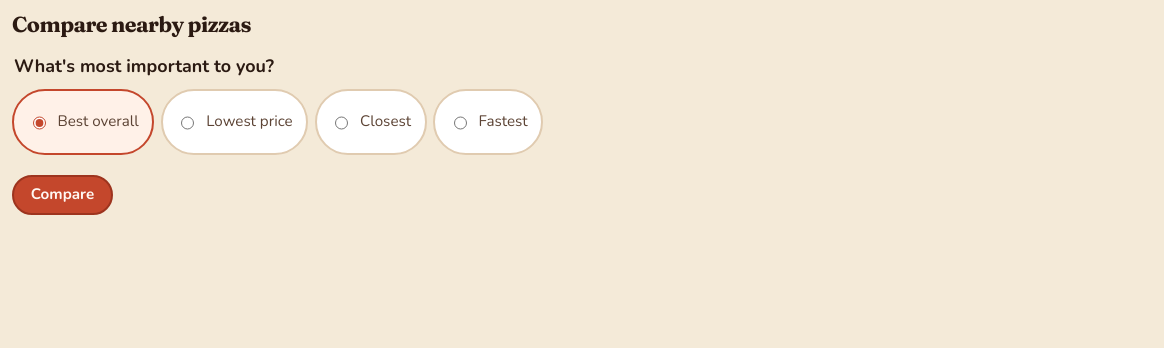
Test: PizzaComparisonPanel › sends the selected radius and omits balanced priority
Expected: the radio button labelled "Best overall" is checked, top-left (33, 99), bottom-right (46, 147)
Click the button "Compare" at [62, 195], box top-left (12, 175), bottom-right (113, 214)
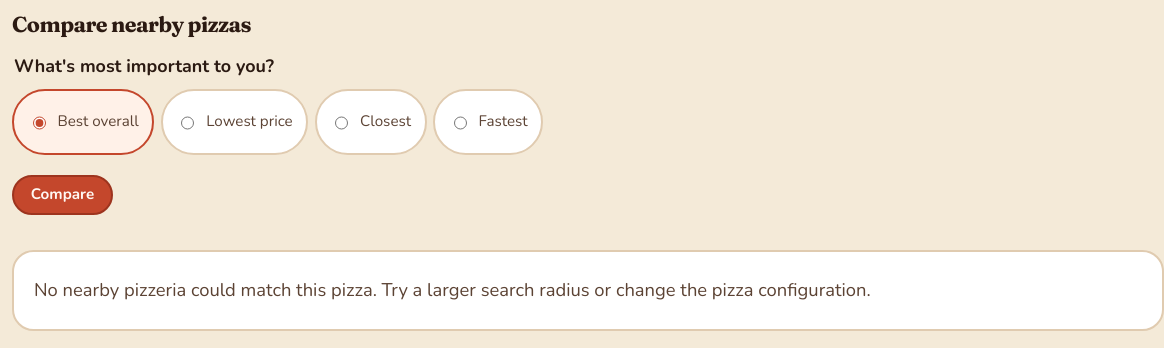
Now the text "No nearby pizzeria could match this pizza. Try a larger search radius or change the pizza configuration." is shown, box top-left (34, 278), bottom-right (871, 302)
